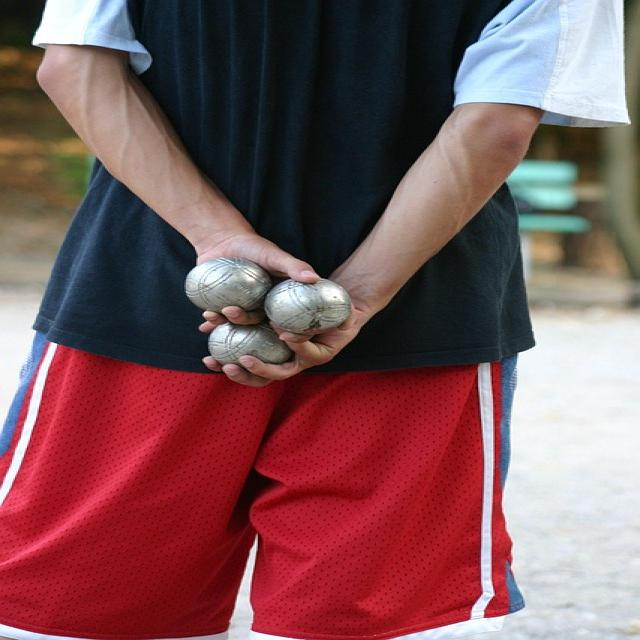petanque: (169, 252, 280, 318), (257, 272, 353, 343), (201, 316, 301, 374)
